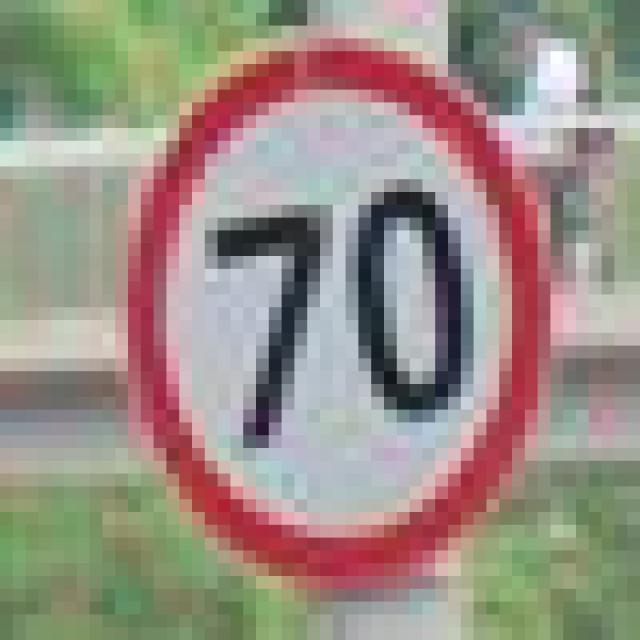SPEED_LIMIT_70: (102, 26, 550, 563)
